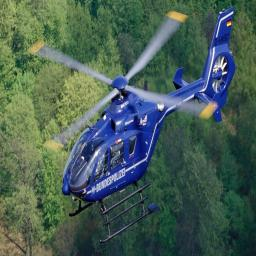helicopter: (45, 7, 240, 254)
